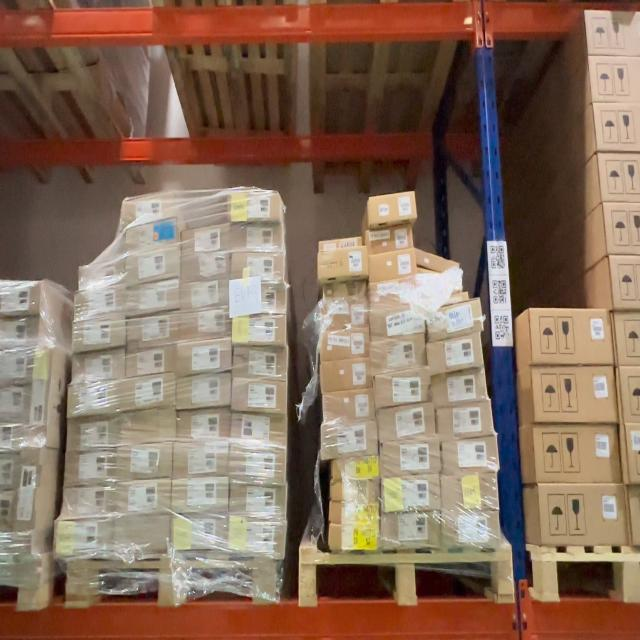box: (539, 485, 631, 545), (536, 426, 622, 483), (532, 308, 614, 364), (533, 368, 618, 422), (11, 448, 40, 553), (25, 344, 52, 448), (587, 11, 640, 55), (591, 56, 640, 102), (382, 475, 440, 513), (442, 474, 499, 511), (56, 522, 111, 560), (229, 521, 284, 559), (381, 441, 439, 477), (441, 513, 499, 549), (232, 448, 288, 485), (595, 106, 640, 152), (381, 514, 438, 550), (173, 478, 228, 515), (117, 442, 172, 479), (113, 480, 171, 515), (426, 300, 482, 336), (378, 406, 434, 441), (442, 437, 498, 472), (428, 337, 484, 372), (438, 402, 494, 437), (116, 520, 170, 556), (173, 516, 227, 552), (232, 282, 289, 316), (372, 336, 427, 371), (600, 154, 640, 202), (232, 485, 288, 519), (375, 372, 431, 406), (321, 424, 375, 459), (125, 249, 182, 282), (233, 314, 288, 348), (434, 371, 489, 405), (177, 376, 231, 410), (234, 347, 288, 381), (231, 414, 286, 447), (372, 304, 425, 338), (174, 444, 228, 477), (177, 340, 231, 373), (233, 381, 286, 414), (606, 205, 640, 255), (72, 319, 125, 351), (72, 352, 125, 384), (122, 412, 176, 443), (127, 282, 181, 313), (178, 411, 230, 443), (125, 378, 177, 410), (232, 252, 287, 282), (68, 383, 120, 414), (129, 314, 179, 346), (76, 287, 126, 319), (66, 451, 114, 484), (63, 485, 112, 517), (125, 195, 179, 224), (323, 392, 373, 423), (126, 222, 181, 250), (322, 360, 371, 391), (68, 418, 115, 450), (231, 190, 278, 222), (181, 309, 231, 339), (321, 330, 369, 360), (612, 257, 640, 308), (418, 274, 469, 302), (372, 191, 416, 223), (230, 223, 282, 250), (182, 279, 230, 308), (128, 348, 176, 377), (319, 248, 366, 277), (614, 313, 640, 365), (370, 279, 419, 306), (370, 252, 416, 280), (0, 282, 40, 314), (321, 280, 368, 306), (369, 225, 414, 252), (331, 456, 380, 480), (0, 318, 39, 348), (322, 306, 368, 331), (184, 253, 228, 279), (184, 226, 228, 252), (79, 262, 123, 288), (329, 528, 380, 550), (620, 368, 640, 424), (415, 251, 464, 273), (332, 482, 380, 504), (0, 385, 28, 422), (332, 504, 378, 525), (0, 353, 31, 382), (626, 424, 640, 484), (630, 484, 640, 546), (321, 238, 364, 252)
